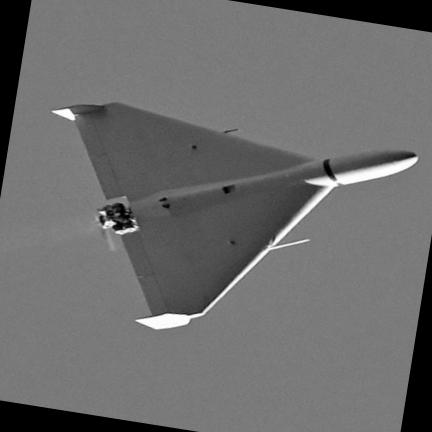Shahed: (52, 102, 418, 328)
